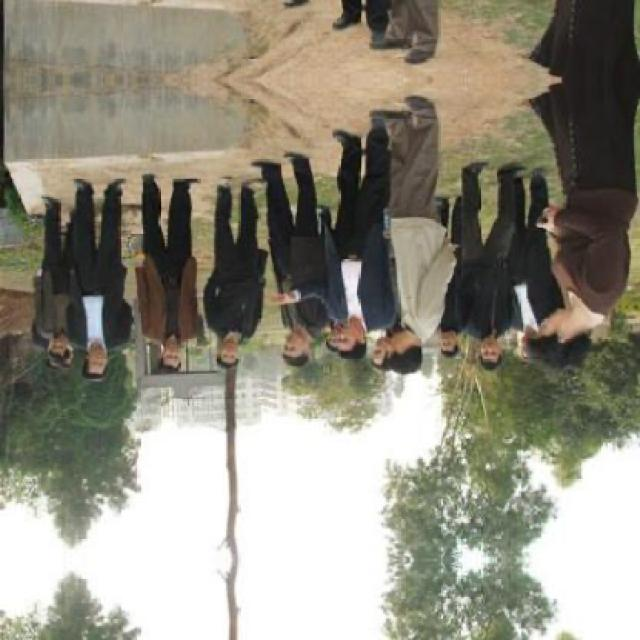sin casco: (520, 290, 608, 362), (304, 296, 403, 360), (378, 313, 430, 378), (143, 334, 204, 389), (82, 332, 136, 389), (194, 327, 252, 374), (466, 328, 508, 390), (20, 338, 72, 387), (266, 326, 316, 372)
